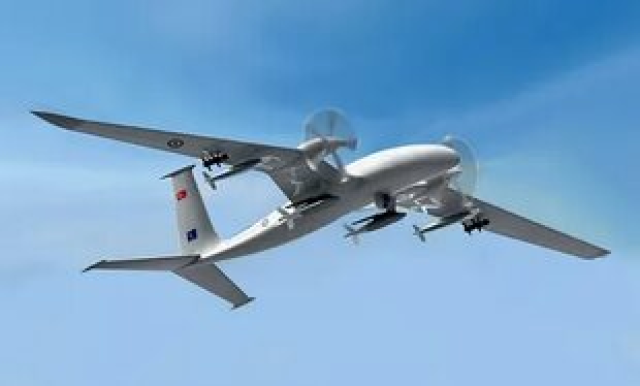military drone: (28, 107, 611, 310)
